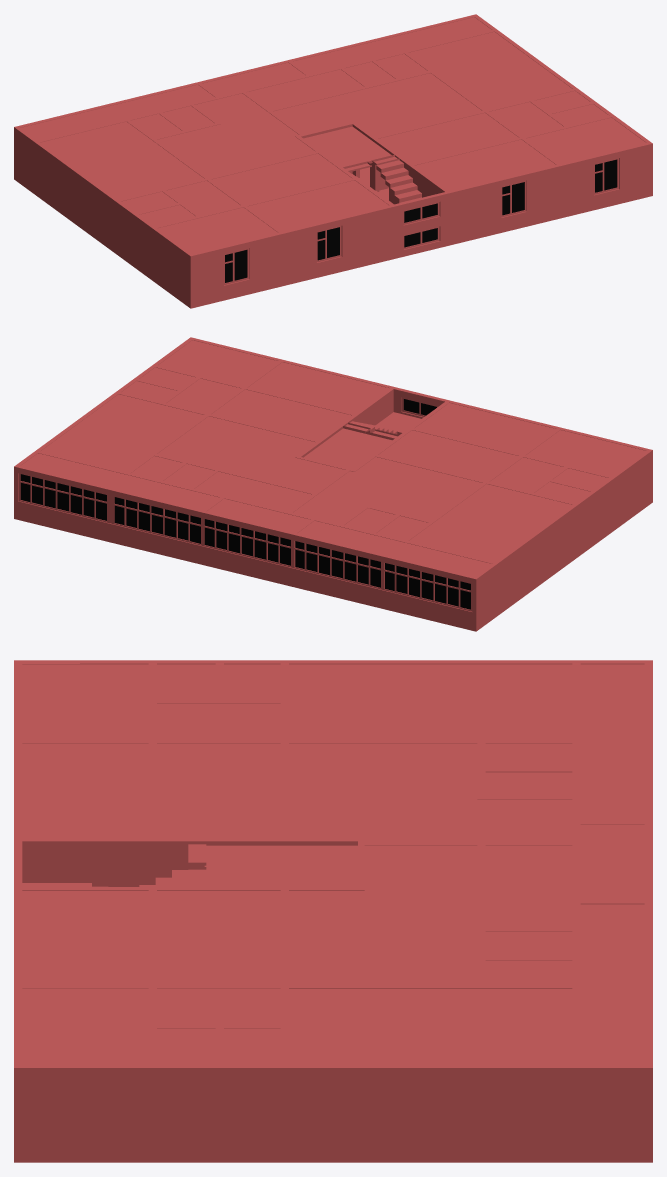
File: SM_house_section_9.fbx
The picture shows the model from 3 angles, top to bottom: view 1: azimuth 30°, elevation 25°; view 2: azimuth 150°, elevation 25°; view 3: azimuth 270°, elevation 25°; orthographic projection. The views are drawn at different scales.
Visible parts, largest first — view 1: Boole_9; view 2: Boole_9; view 3: Boole_9.
Part boxes in pixels (x1=…): Boole_9: x1=14, y1=14, x2=652, y2=308; Boole_9: x1=14, y1=337, x2=652, y2=631; Boole_9: x1=14, y1=660, x2=652, y2=1162.
Bounding box in the file's own units: 2309 × 250 × 1529.
